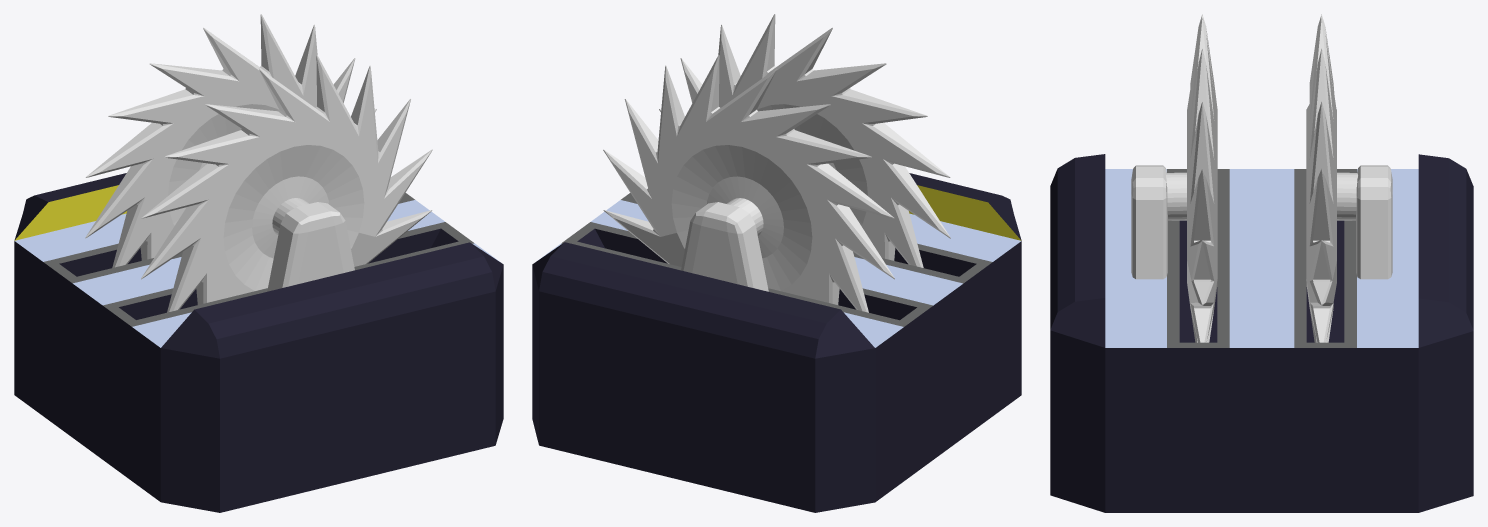
File: Saw_Block.fbx
3 renders of one model, left to right at view 1: azimuth 30°, elevation 25°; view 2: azimuth 150°, elevation 25°; view 3: azimuth 270°, elevation 25°, orthographic. The views are drawn at different scales.
Visible parts, largest first — view 1: Base, Circle.001, Cube; view 2: Base, Circle.001, Cube; view 3: Base, Circle.001, Cube.
Boxes of the visible parts, bbox=[...] form: Base: bbox=[14, 173, 503, 512]; Circle.001: bbox=[85, 14, 432, 312]; Cube: bbox=[267, 202, 354, 291]; Base: bbox=[532, 173, 1021, 512]; Circle.001: bbox=[603, 14, 950, 312]; Cube: bbox=[681, 202, 768, 291]; Base: bbox=[1050, 154, 1473, 512]; Circle.001: bbox=[1166, 14, 1357, 342]; Cube: bbox=[1131, 165, 1392, 279].
Size of the model in its own units: 100 by 102 by 100.
